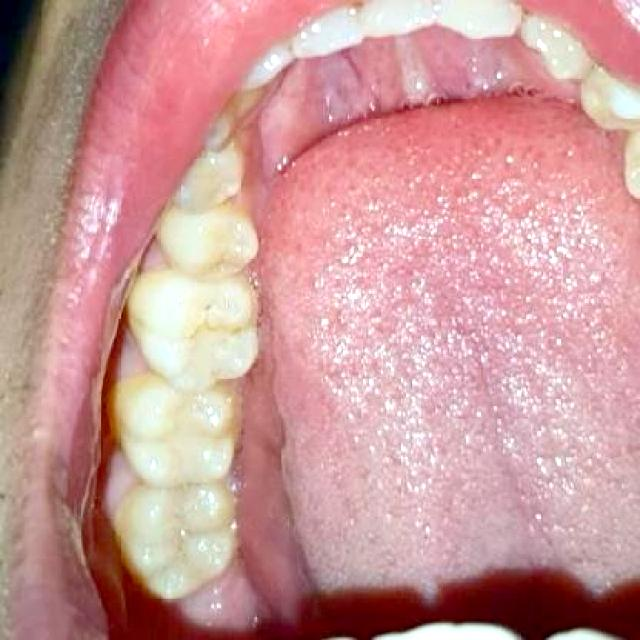Plaque: (178, 298, 242, 357), (158, 524, 206, 576), (203, 255, 231, 272)
